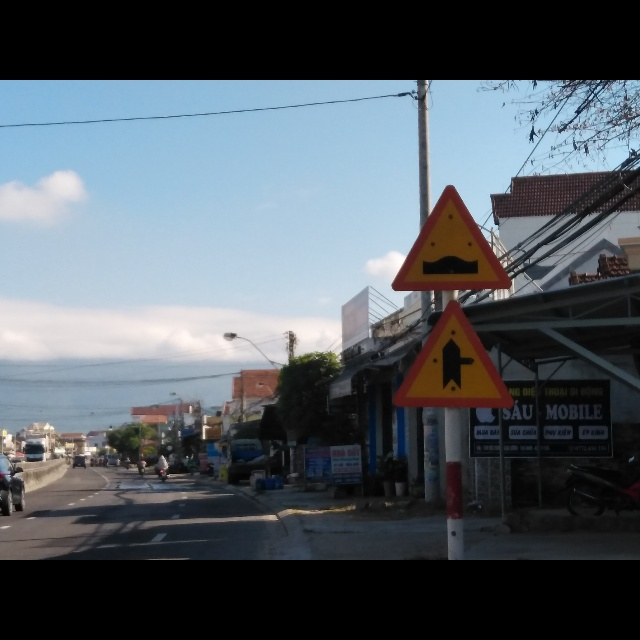Giao nhau với đường không ưu tiên: (391, 297, 516, 409)
Đường không bằng phẳng: (391, 178, 514, 293)
